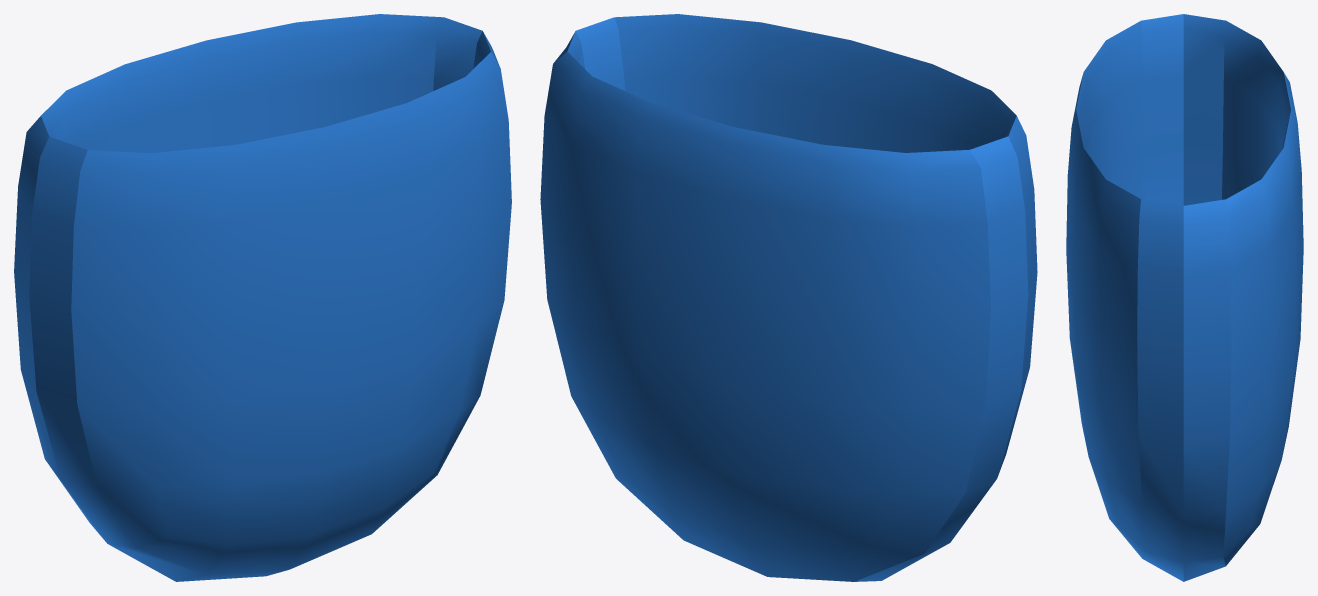
The model's file is demoBag.fbx.
The picture shows the model from 3 angles, left to right: view 1: azimuth 30°, elevation 25°; view 2: azimuth 150°, elevation 25°; view 3: azimuth 270°, elevation 25°; orthographic projection. The views are drawn at different scales.
Parts seen in each view (by area): view 1: Cube; view 2: Cube; view 3: Cube.
Boxes of the visible parts, x1,y1,x2,y2 form: Cube: (14,14,511,581); Cube: (540,14,1037,581); Cube: (1066,14,1303,581).
Size of the model in its own units: 176 by 174 by 84.02.
